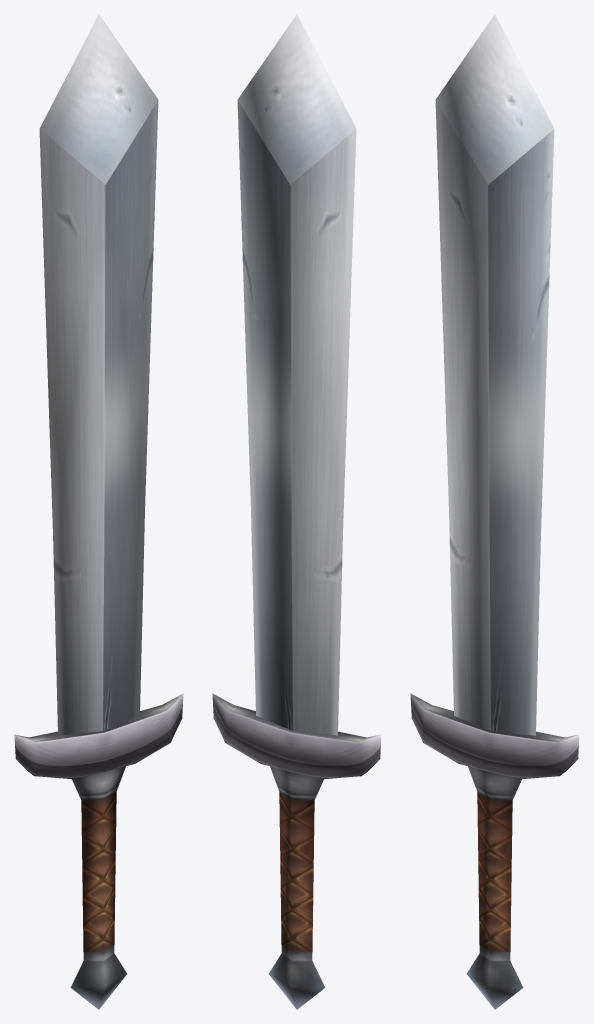
Rendered from sword.gltf.
3 renders of one model, left to right at view 1: azimuth 30°, elevation 25°; view 2: azimuth 150°, elevation 25°; view 3: azimuth 330°, elevation 25°, orthographic.
Parts seen in each view (by area): view 1: Sword; view 2: Sword; view 3: Sword.
Boxes of the visible parts, x1,y1,x2,y2 form: Sword: (14,14,183,1009); Sword: (212,14,381,1009); Sword: (410,14,579,1009).
Size of the model in its own units: 1.79 by 10.06 by 0.2469.
1 material, 1 textured.
